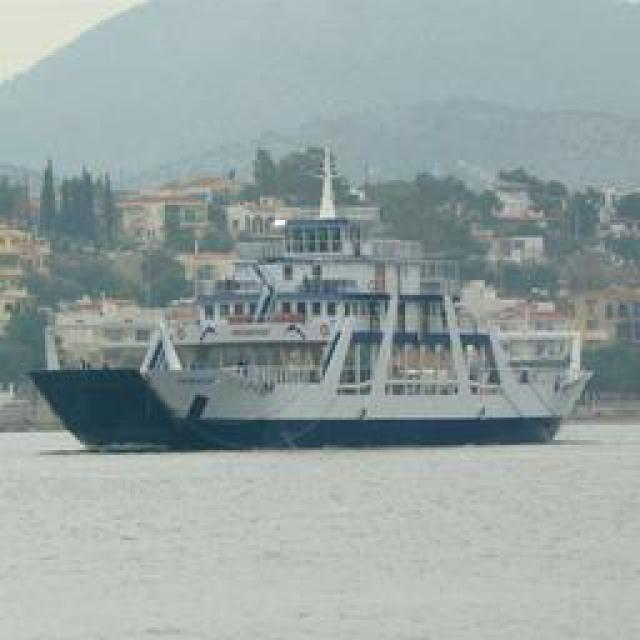Ship: (52, 145, 592, 440)
